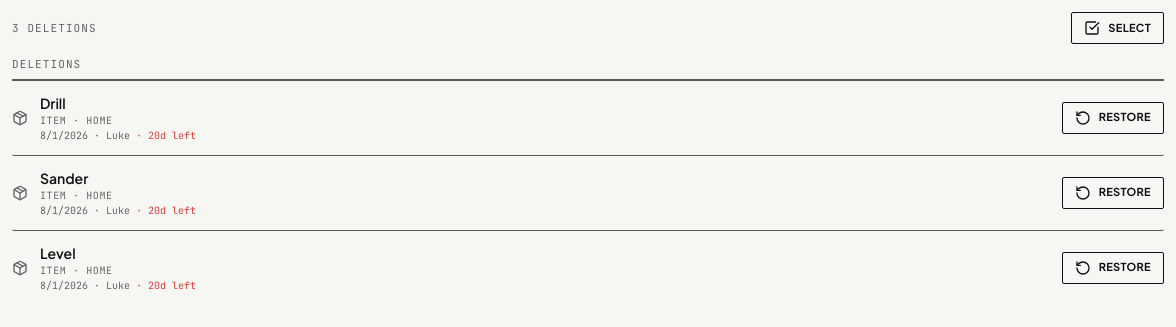
a blocked restore whose payload carries neither (today's real server shape) renders the plain message
Step 1. Click the button "Restore" in the row of "Sander" → (1113, 192), box x1=1062 y1=176 x2=1164 y2=208
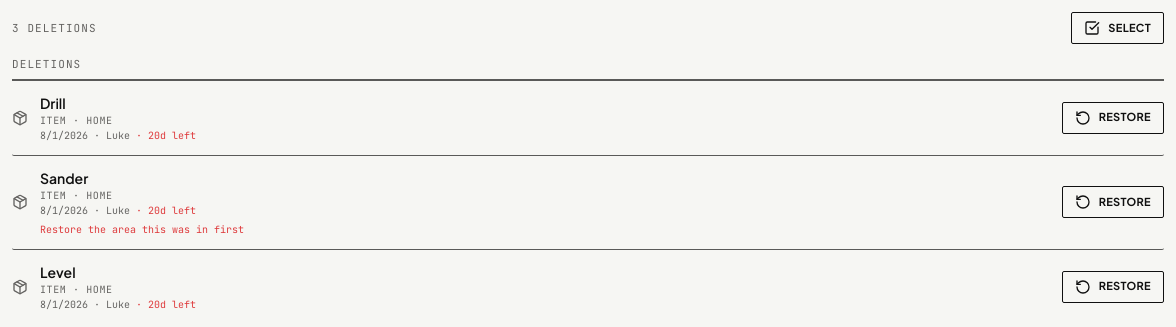
expect the text "Restore the area this was in first" is shown: met, box x1=40 y1=222 x2=244 y2=236
